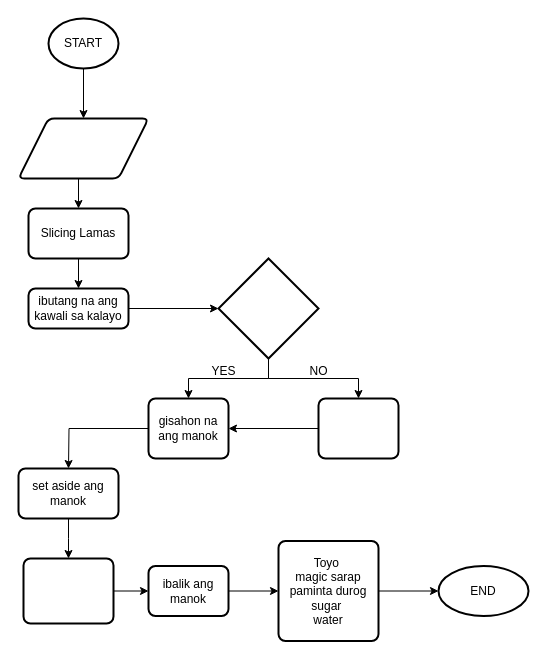
Some shapes in this 546 by 659 pixel diagram are drawn without their labels. The shapes that lost their labels are listed below. From the top down, each one's centre as x and y in pixels, then its label:
At point (83, 148): "Buy ingredients".
At point (268, 308): "ug init na".
At point (358, 428): "huwatan sa".
At point (68, 590): "gisahon ang lamas".
